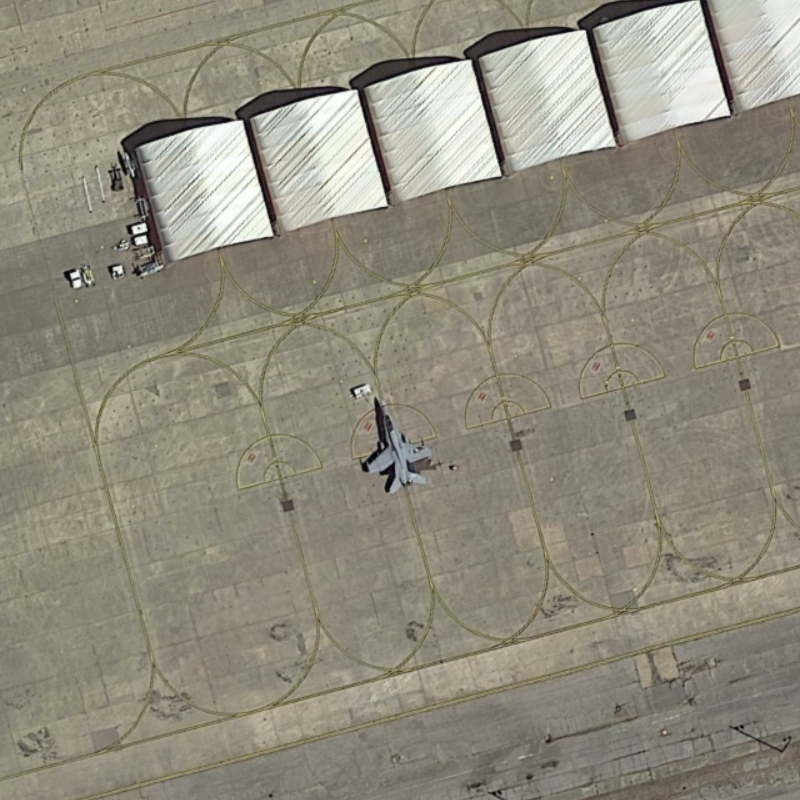A16: (356, 385, 446, 494)
